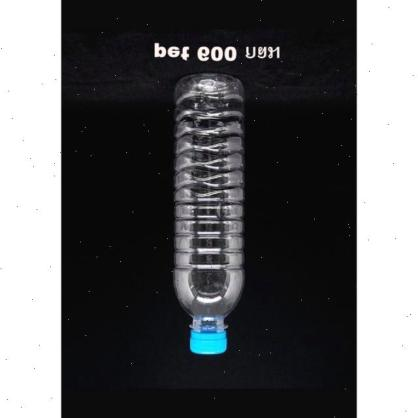bottle: (172, 72, 247, 354)
cap: (189, 327, 228, 354)
